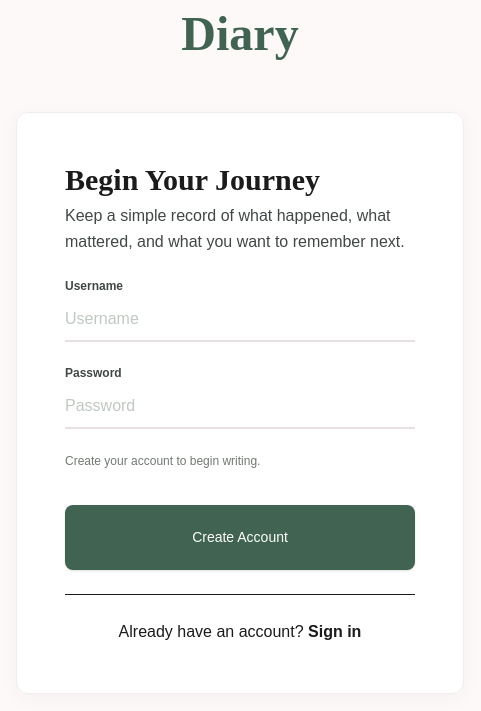
Test: SignupPage › submits signup credentials to the signup API
The image size is (481, 711).
In the field labelled "Username": (240, 320) [65,298,415,342], type "person_test"
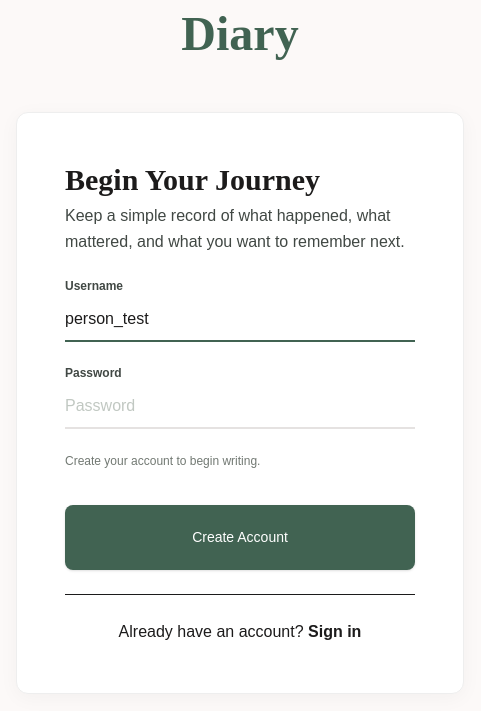
In the password field labelled "Password": (240, 406) [65,384,415,428], type "password123"
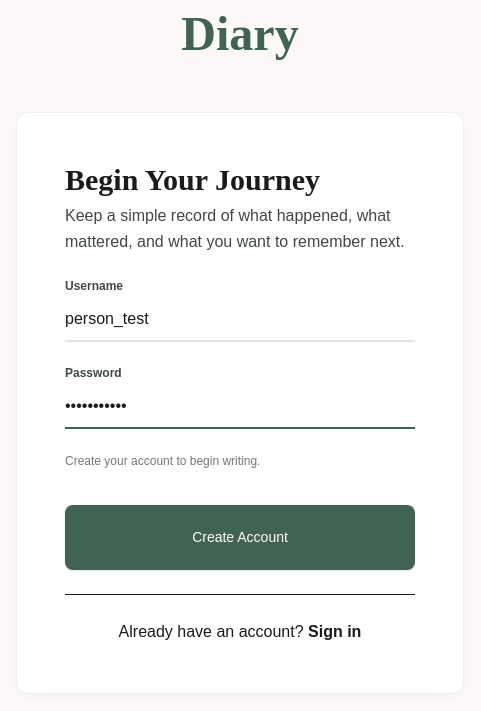
Click the button "Create Account": (240, 537) [65,504,415,570]
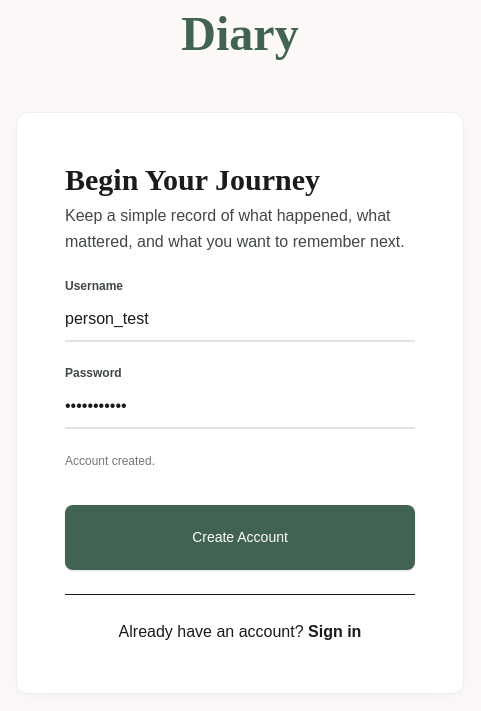
Expected: the text "Account created." is shown, [65,454,155,468]
